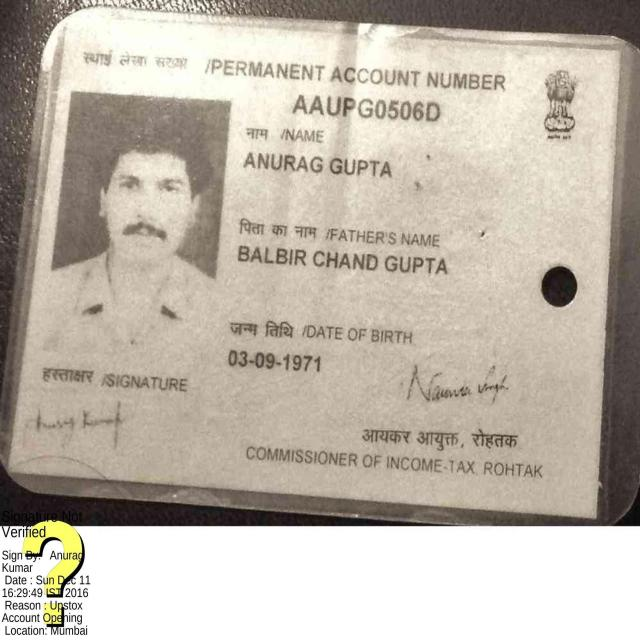pan_card: (9, 20, 620, 520)
